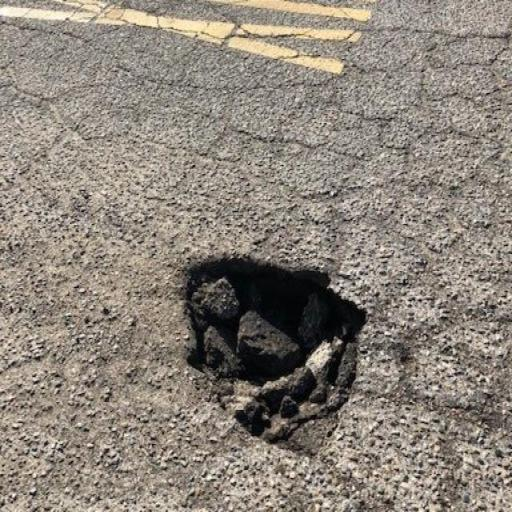Concentric_Crack: (185, 259, 365, 454)
